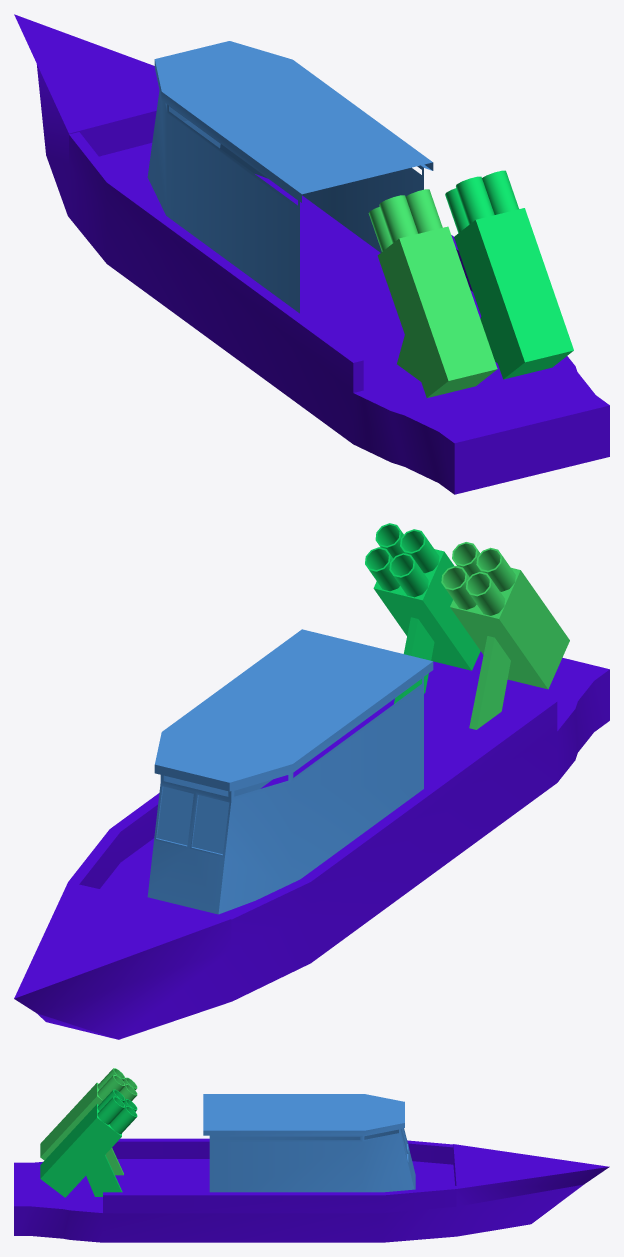
Rendered from SHIP_1 (2).fbx.
The picture shows the model from 3 angles, top to bottom: view 1: azimuth 30°, elevation 25°; view 2: azimuth 150°, elevation 25°; view 3: azimuth 270°, elevation 25°; orthographic projection. The views are drawn at different scales.
Visible parts, largest first — view 1: Cylinder.003; view 2: Cylinder.003; view 3: Cylinder.003.
Boxes of the visible parts, left/top/right/bottom form: Cylinder.003: left=14, top=14, right=609, bottom=494; Cylinder.003: left=14, top=523, right=609, bottom=1039; Cylinder.003: left=14, top=1068, right=609, bottom=1242.
Bounding box in the file's own units: 831 × 888 × 3654.
